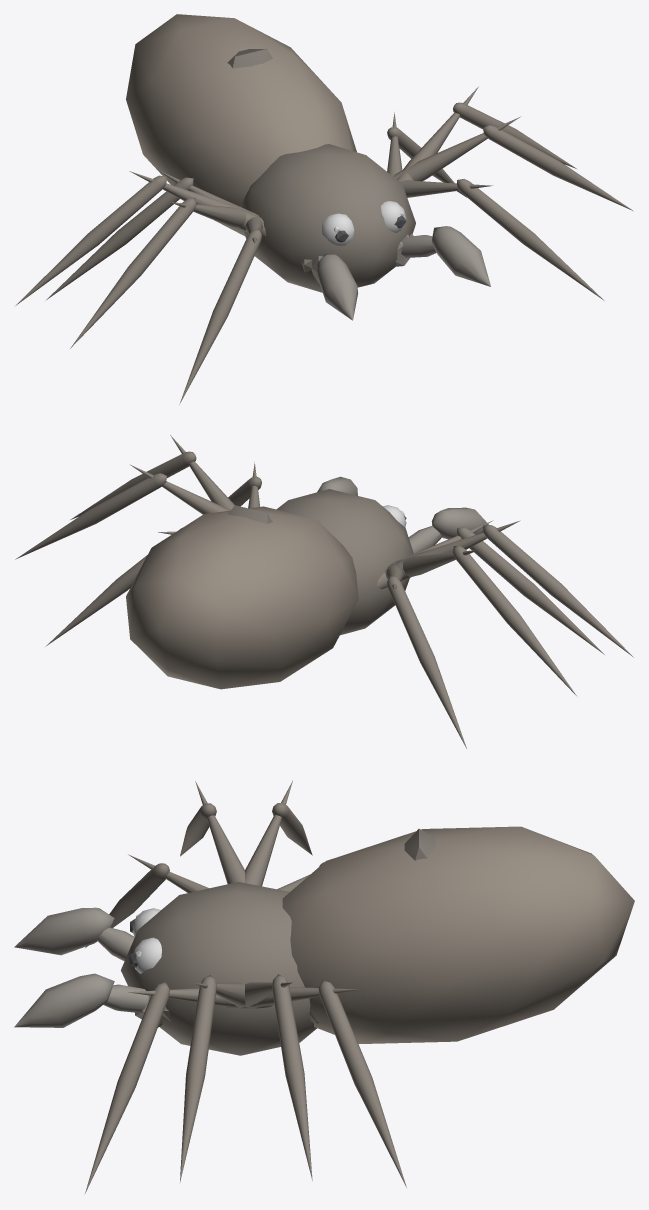
The model's file is tylorida-ventralis.glb.
3 views of the same model, one above another, from view 1: azimuth 30°, elevation 25°; view 2: azimuth 150°, elevation 25°; view 3: azimuth 270°, elevation 25° (orthographic). The views are drawn at different scales.
Parts seen in each view (by area): view 1: abdomen, cephalothorax, leg2-l0, leg1-r0, leg2-r0, leg3-l0, leg3-r0, leg0-r0, leg1-l0, palp-l1, palp-r1, leg0-l0 (+3 smaller); view 2: abdomen, cephalothorax, leg2-r0, leg1-r0, leg1-l0, leg3-r0, leg0-r0, leg2-l0, leg0-l0, palp-r1, leg3-l0, palp-r0 (+1 smaller); view 3: abdomen, cephalothorax, leg3-l0, leg0-l0, leg2-l0, leg1-l0, palp-l1, palp-r1, leg1-r0, leg2-r0, leg3-r0, palp-l0 (+2 smaller).
Boxes of the visible parts, x1=… form: abdomen: x1=126, y1=14, x2=356, y2=235; cephalothorax: x1=240, y1=144, x2=415, y2=292; leg2-l0: x1=393, y1=116, x2=633, y2=211; leg1-r0: x1=15, y1=171, x2=263, y2=305; leg2-r0: x1=70, y1=198, x2=252, y2=348; leg3-l0: x1=400, y1=179, x2=604, y2=300; leg3-r0: x1=179, y1=215, x2=262, y2=404; leg0-r0: x1=46, y1=170, x2=266, y2=299; leg1-l0: x1=397, y1=86, x2=576, y2=181; palp-l1: x1=431, y1=226, x2=490, y2=286; palp-r1: x1=317, y1=254, x2=357, y2=320; leg0-l0: x1=387, y1=112, x2=466, y2=197; abdomen: x1=126, y1=505, x2=358, y2=689; cephalothorax: x1=276, y1=489, x2=413, y2=635; leg2-r0: x1=384, y1=520, x2=633, y2=657; leg1-r0: x1=396, y1=546, x2=576, y2=695; leg1-l0: x1=15, y1=464, x2=230, y2=559; leg3-r0: x1=376, y1=520, x2=604, y2=654; leg0-r0: x1=386, y1=564, x2=466, y2=748; leg2-l0: x1=70, y1=435, x2=234, y2=519; leg0-l0: x1=45, y1=528, x2=181, y2=646; palp-r1: x1=431, y1=507, x2=488, y2=539; leg3-l0: x1=228, y1=462, x2=261, y2=508; palp-r0: x1=408, y1=526, x2=442, y2=553; abdomen: x1=282, y1=826, x2=634, y2=1043; cephalothorax: x1=121, y1=882, x2=318, y2=1055; leg3-l0: x1=84, y1=982, x2=273, y2=1194; leg0-l0: x1=227, y1=980, x2=406, y2=1187; leg2-l0: x1=180, y1=975, x2=257, y2=1182; leg1-l0: x1=233, y1=974, x2=312, y2=1180; palp-l1: x1=14, y1=973, x2=114, y2=1027; palp-r1: x1=14, y1=907, x2=114, y2=955; leg1-r0: x1=245, y1=780, x2=312, y2=886; leg2-r0: x1=180, y1=781, x2=244, y2=883; leg3-r0: x1=85, y1=854, x2=208, y2=947; palp-l0: x1=103, y1=984, x2=148, y2=1012.
Bounding box in the file's own units: 0.6537 × 0.2183 × 0.5243.
